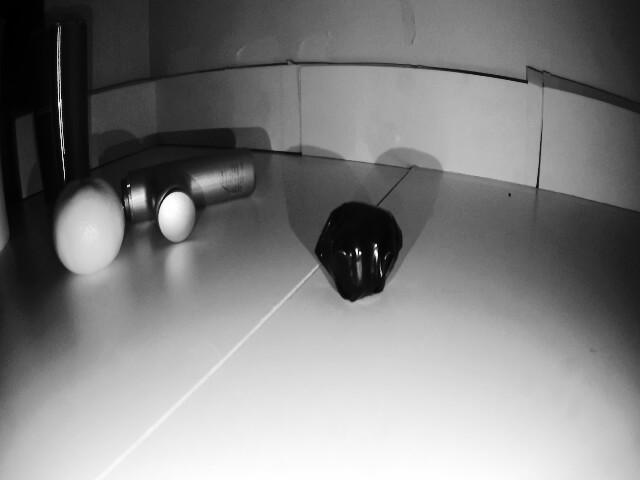black: (303, 192, 399, 311)
